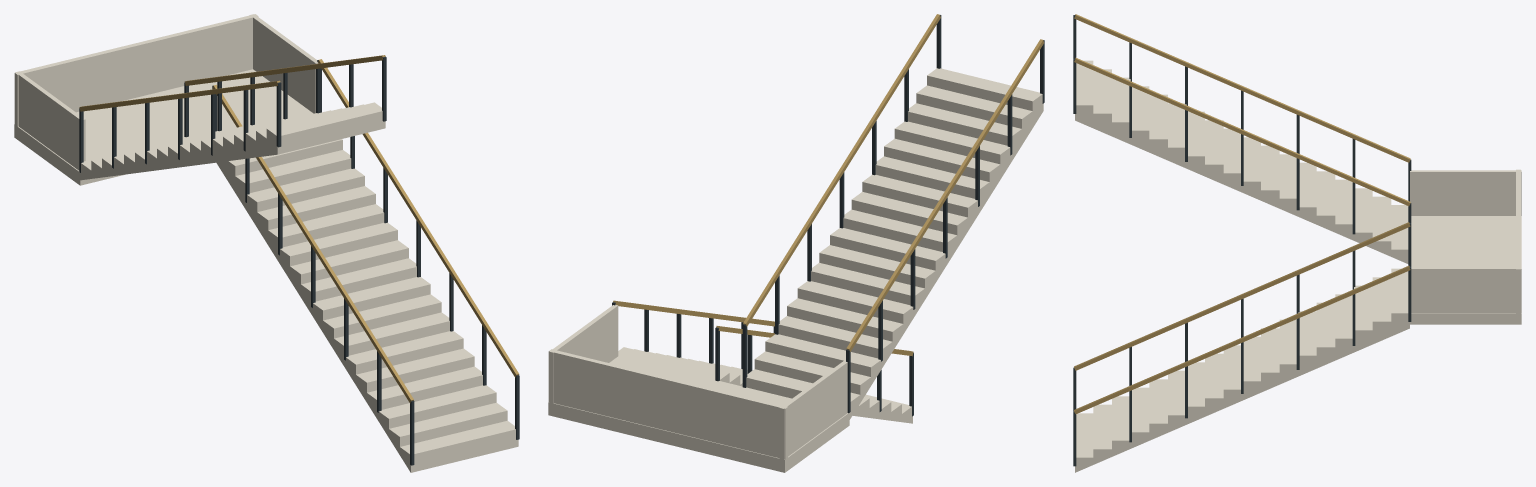
The model's file is VIC_B08_STAIR_Roblox.fbx.
3 views of the same model, side by side, from view 1: azimuth 30°, elevation 25°; view 2: azimuth 150°, elevation 25°; view 3: azimuth 270°, elevation 25° (orthographic). The views are drawn at different scales.
Visible parts, largest first — view 1: VIC_B08_STAIR__Ivory, VIC_B08_STAIR__Landing__Ivory, VIC_B08_STAIR__Charcoal, VIC_B08_STAIR__Brass; view 2: VIC_B08_STAIR__Ivory, VIC_B08_STAIR__Landing__Ivory, VIC_B08_STAIR__Charcoal, VIC_B08_STAIR__Brass; view 3: VIC_B08_STAIR__Ivory, VIC_B08_STAIR__Brass, VIC_B08_STAIR__Landing__Ivory, VIC_B08_STAIR__Charcoal.
Part boxes in pixels (left/top/right/bottom): VIC_B08_STAIR__Ivory: left=14, top=14, right=518, bottom=472; VIC_B08_STAIR__Landing__Ivory: left=14, top=69, right=313, bottom=185; VIC_B08_STAIR__Charcoal: left=79, top=56, right=519, bottom=465; VIC_B08_STAIR__Brass: left=79, top=55, right=519, bottom=403; VIC_B08_STAIR__Ivory: left=548, top=68, right=1043, bottom=459; VIC_B08_STAIR__Landing__Ivory: left=548, top=356, right=849, bottom=472; VIC_B08_STAIR__Charcoal: left=612, top=15, right=1044, bottom=416; VIC_B08_STAIR__Brass: left=613, top=14, right=1043, bottom=356; VIC_B08_STAIR__Ivory: left=1075, top=60, right=1521, bottom=472; VIC_B08_STAIR__Brass: left=1074, top=14, right=1410, bottom=413; VIC_B08_STAIR__Landing__Ivory: left=1410, top=216, right=1521, bottom=324; VIC_B08_STAIR__Charcoal: left=1073, top=15, right=1411, bottom=466.
Size of the model in its own units: 19.04 by 31.94 by 36.12.
